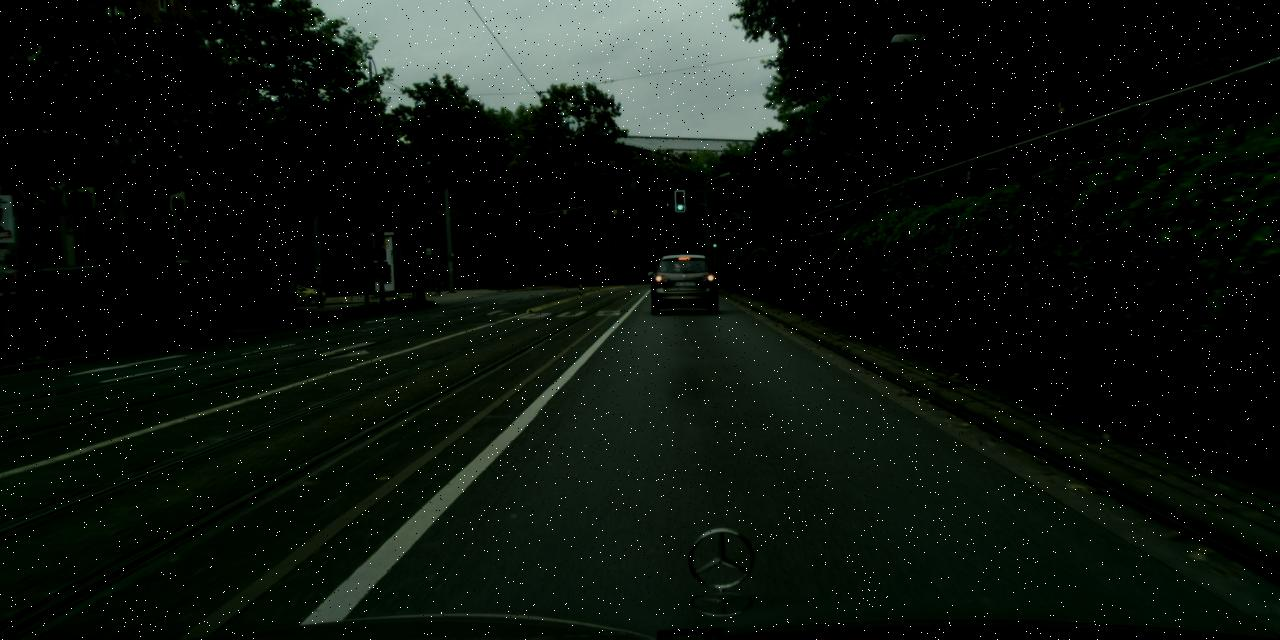ped: (972, 103, 1021, 223), (1044, 97, 1092, 214), (431, 266, 441, 290)
